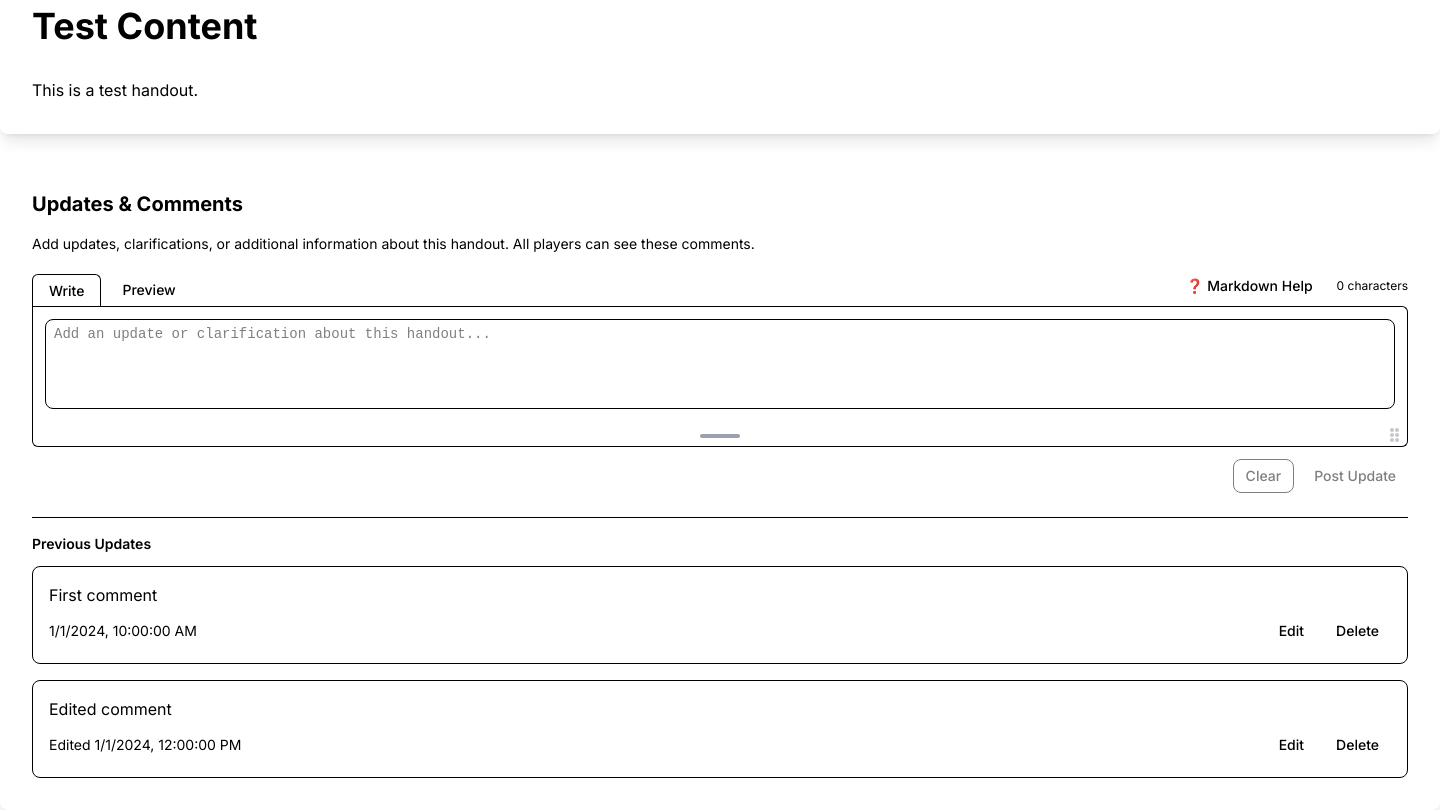
Scenario: HandoutView › Edit Mode › updates comment when save button clicked
The image size is (1440, 810).
(page scrolled)
Expected: the text "First comment" is shown, [49,585,157,605]
Click the button "Edit" in the row of "1/1/2024, 10:00:00 AM" at [1291, 631], box [1267,615,1316,647]
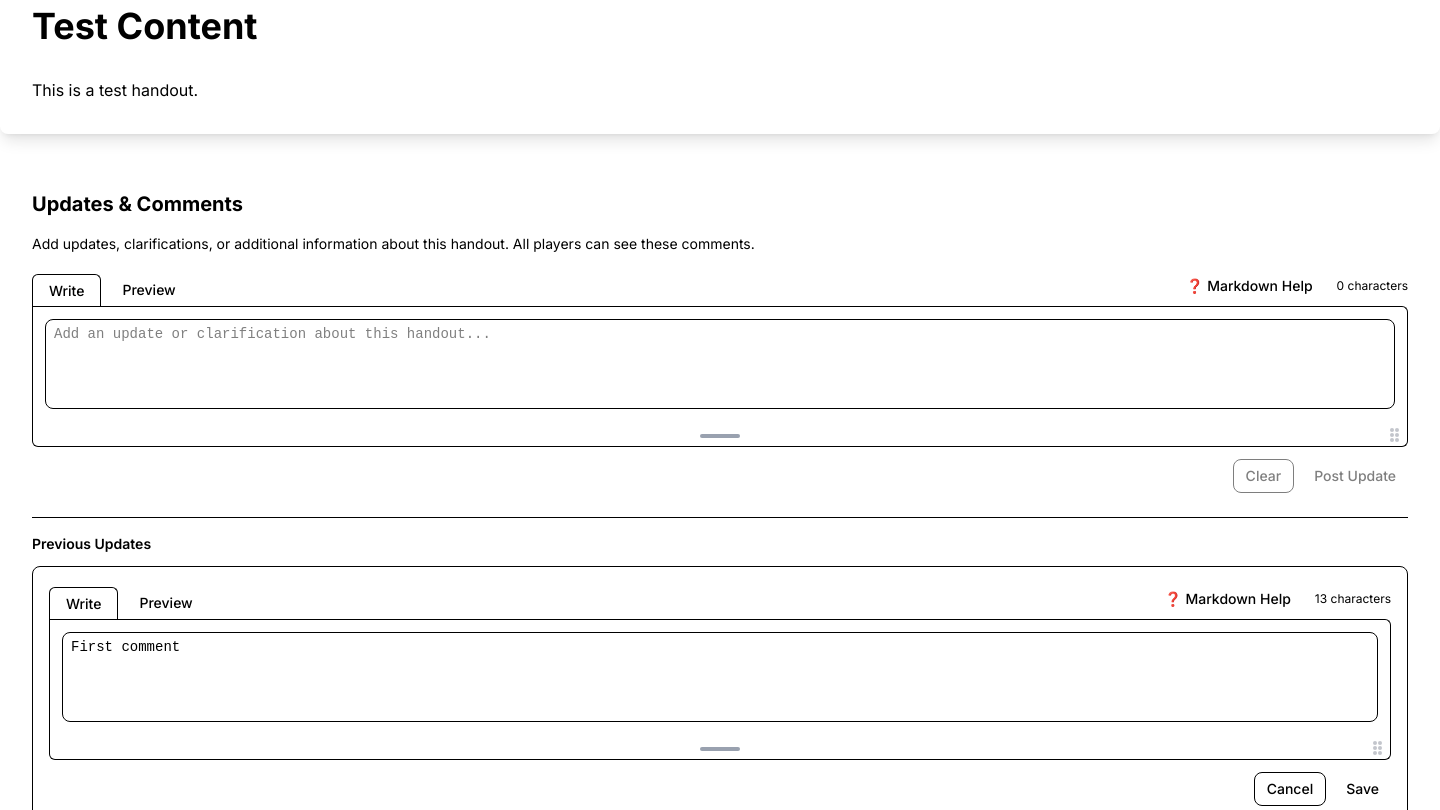
Expected: the button "Save" is shown, [1334,772,1391,806]
// Modify the content
Replace the text in the 2nd text box with "Updated comment content" at [720, 677], box [62,632,1378,722]
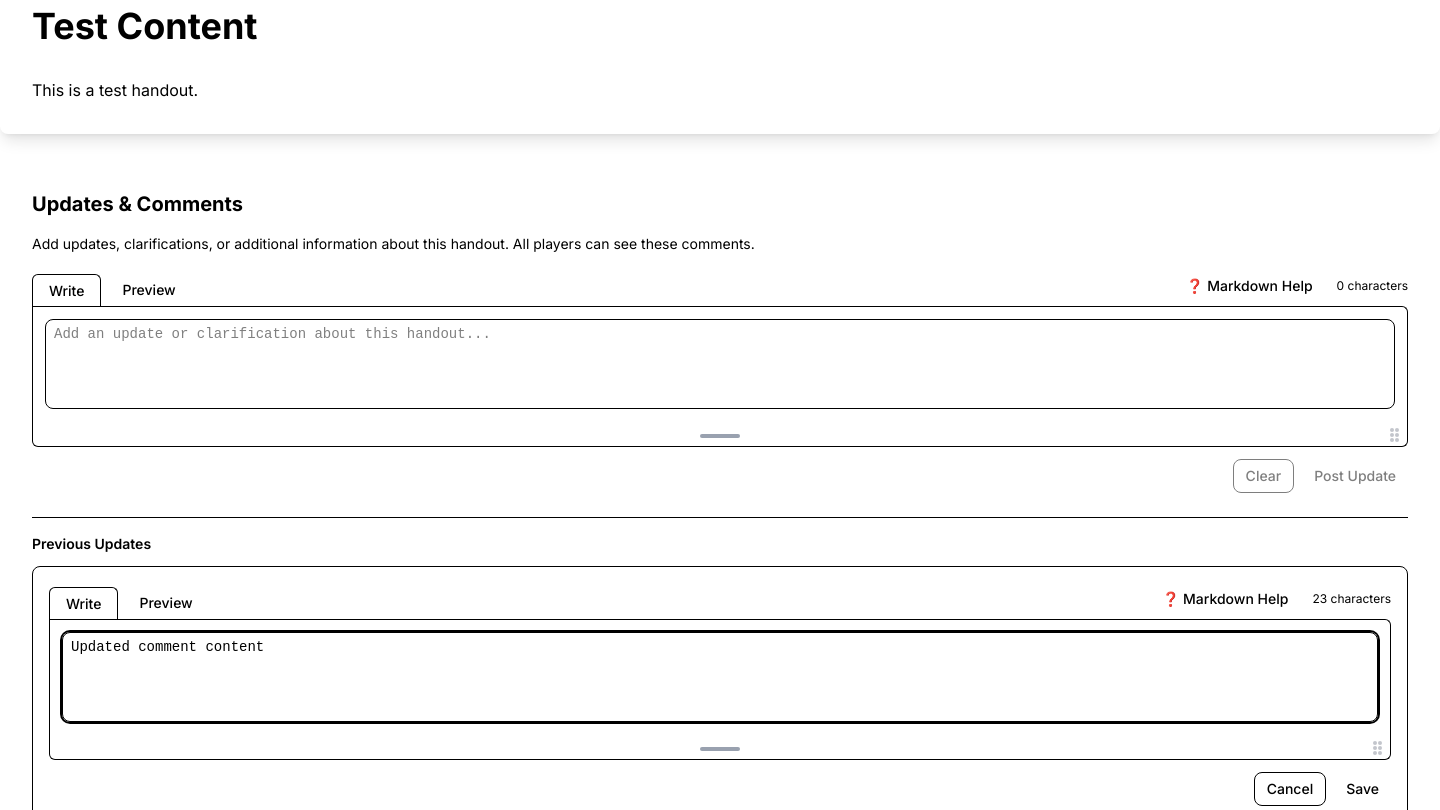
// Click save
Click the button "Save" at [1363, 789], box [1334,772,1391,806]
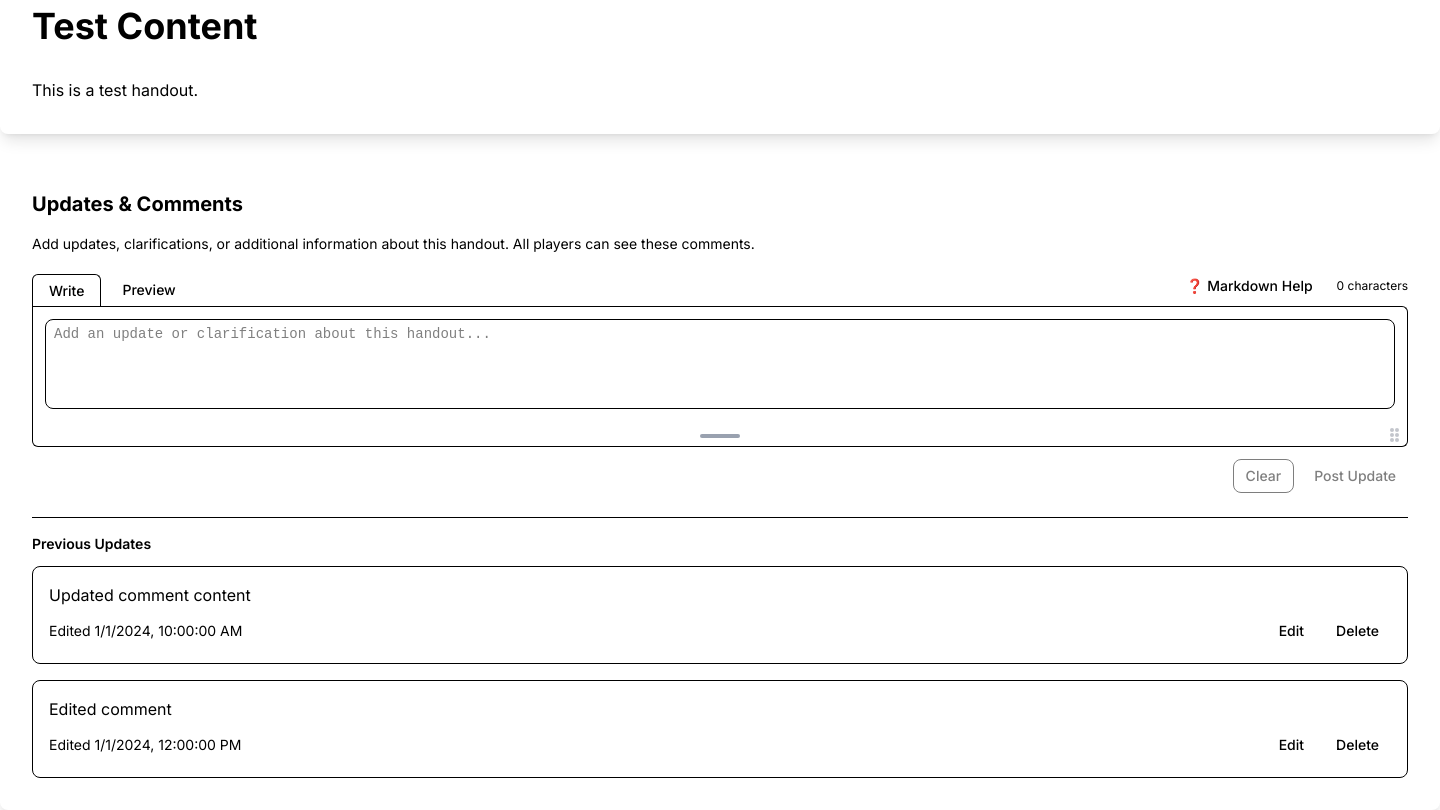
Expected: the button "Save" is gone
Expected: the text "Updated comment content" is shown, [49,585,251,605]
